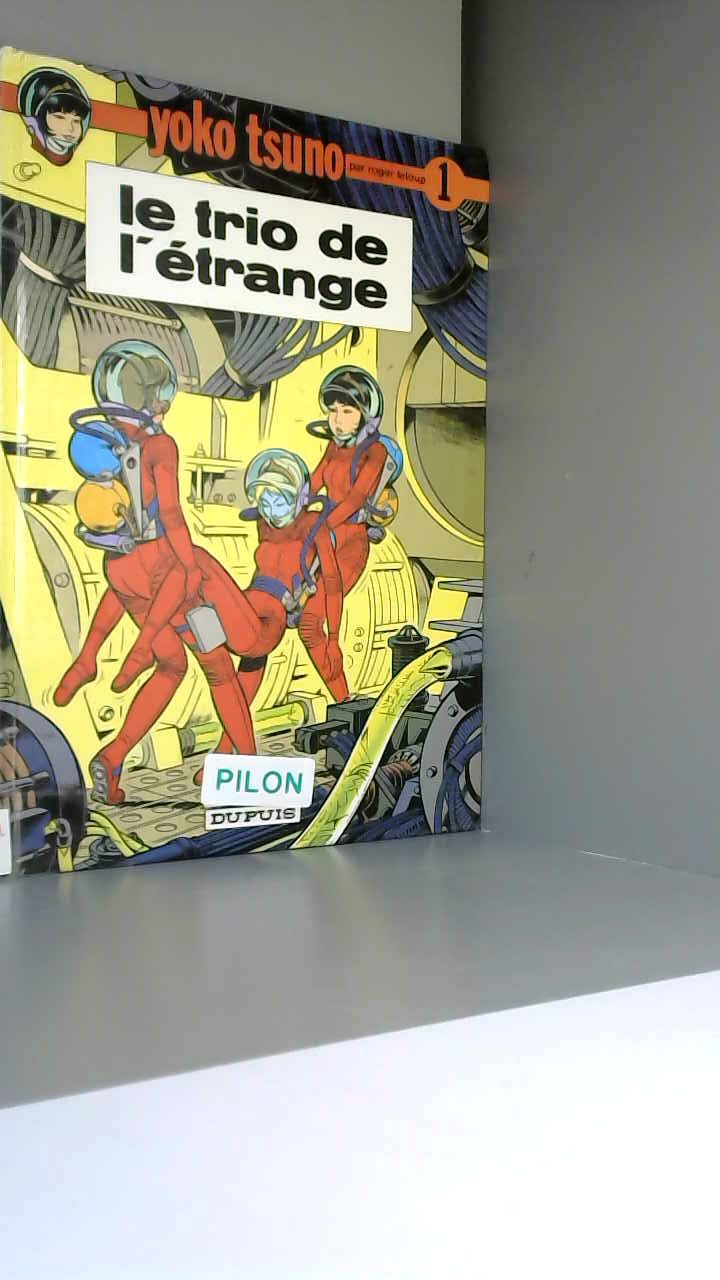book: (0, 33, 522, 895)
